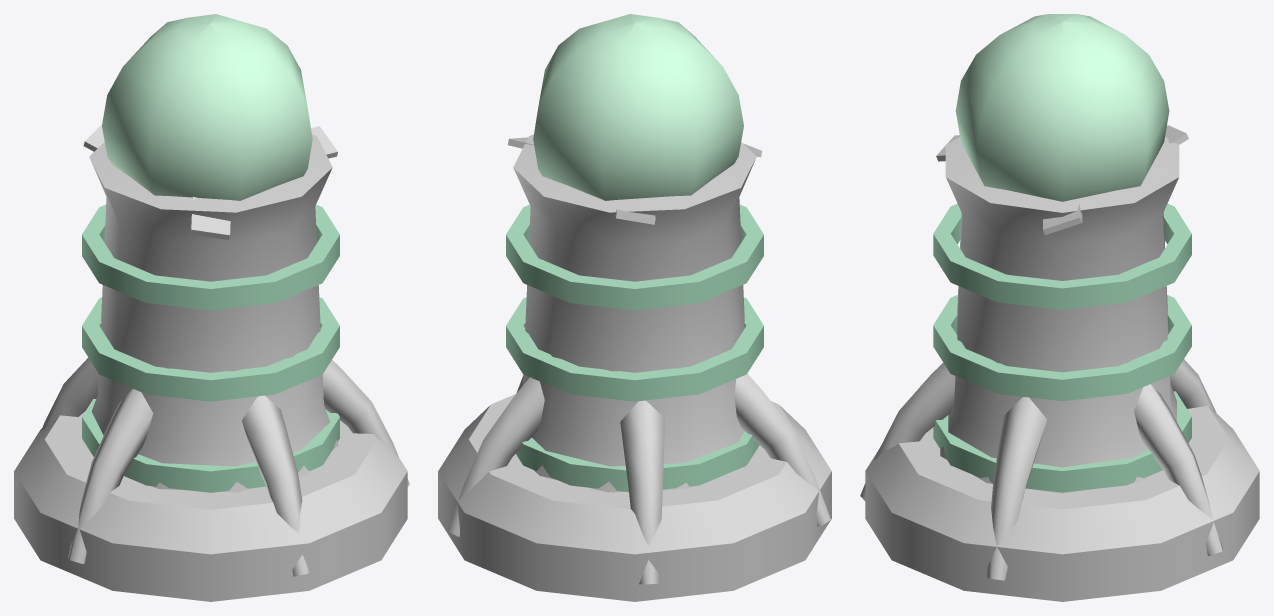
The model's file is PowerRoot.glb.
3 views of the same model, side by side, from view 1: azimuth 30°, elevation 25°; view 2: azimuth 150°, elevation 25°; view 3: azimuth 270°, elevation 25° (orthographic).
Visible parts, largest first — view 1: Body, Charge, Bands; view 2: Body, Charge, Bands; view 3: Body, Charge, Bands.
Boxes of the visible parts, x1,y1,x2,y2 form: Body: (14,124,409,601); Charge: (102,14,312,200); Bands: (82,204,339,492); Body: (438,134,831,601); Charge: (533,14,743,200); Bands: (506,204,763,491); Body: (860,125,1259,601); Charge: (955,14,1169,201); Bands: (933,203,1191,492).
Bounding box in the file's own units: 9 × 12.5 × 9.12.
